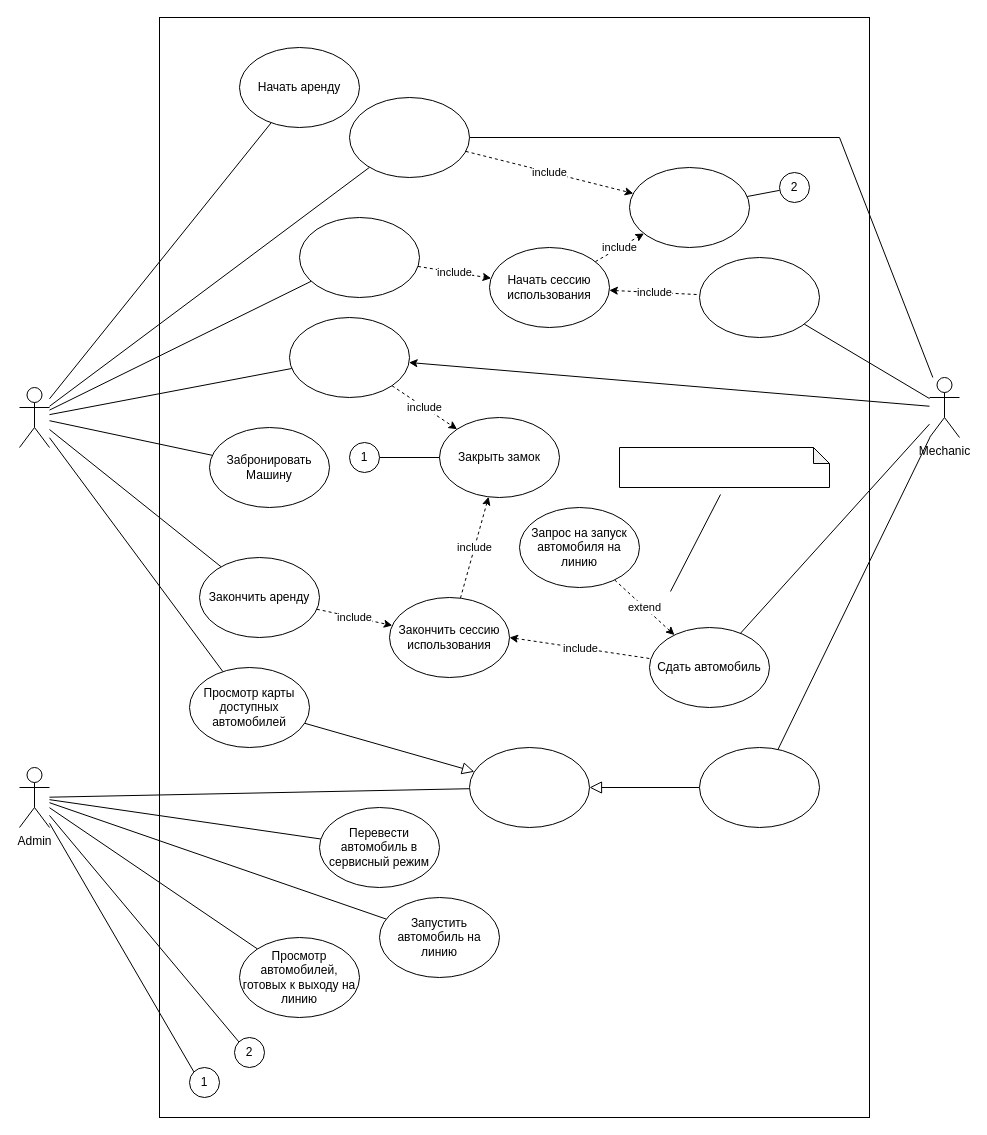
Image size: 987x1135. Some labels were removed from this diagram. The shapes that lost their labels are listed below. From the top down, each one's centre as x and y in pixels, then its label:
[409,137]: Выйти из режима ожидания
[689,207]: Открыть замок
[359,257]: Начать осмотр
[759,297]: Начать ТО
[349,357]: Перевести в режим ожидания
[34,417]: User
[724,467]: Если неисправность устранена
[529,787]: Просмотр карты автомобилей
[759,787]: Просмотр карты авто в сервисном режиме
